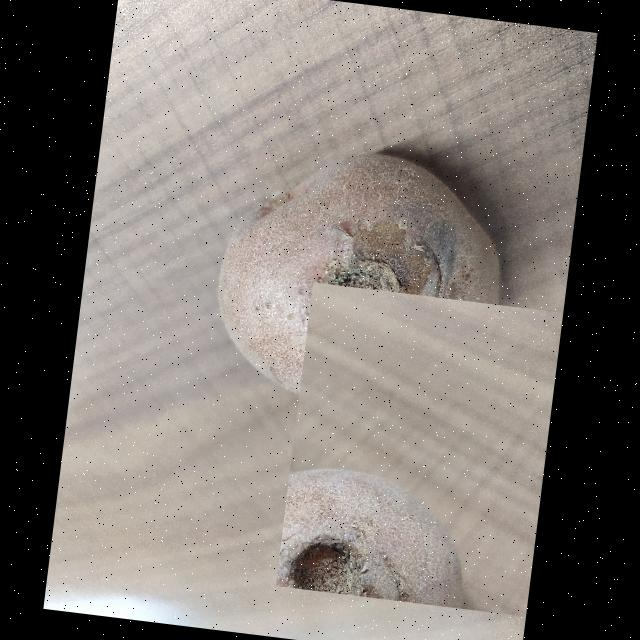Damaged potato: (276, 281, 582, 618)
